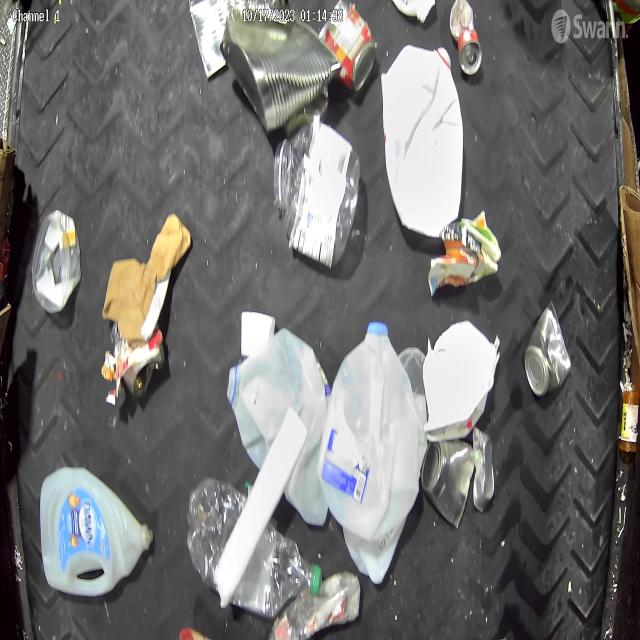milk-jug: (321, 314, 422, 552), (226, 328, 334, 524), (379, 38, 463, 245)
